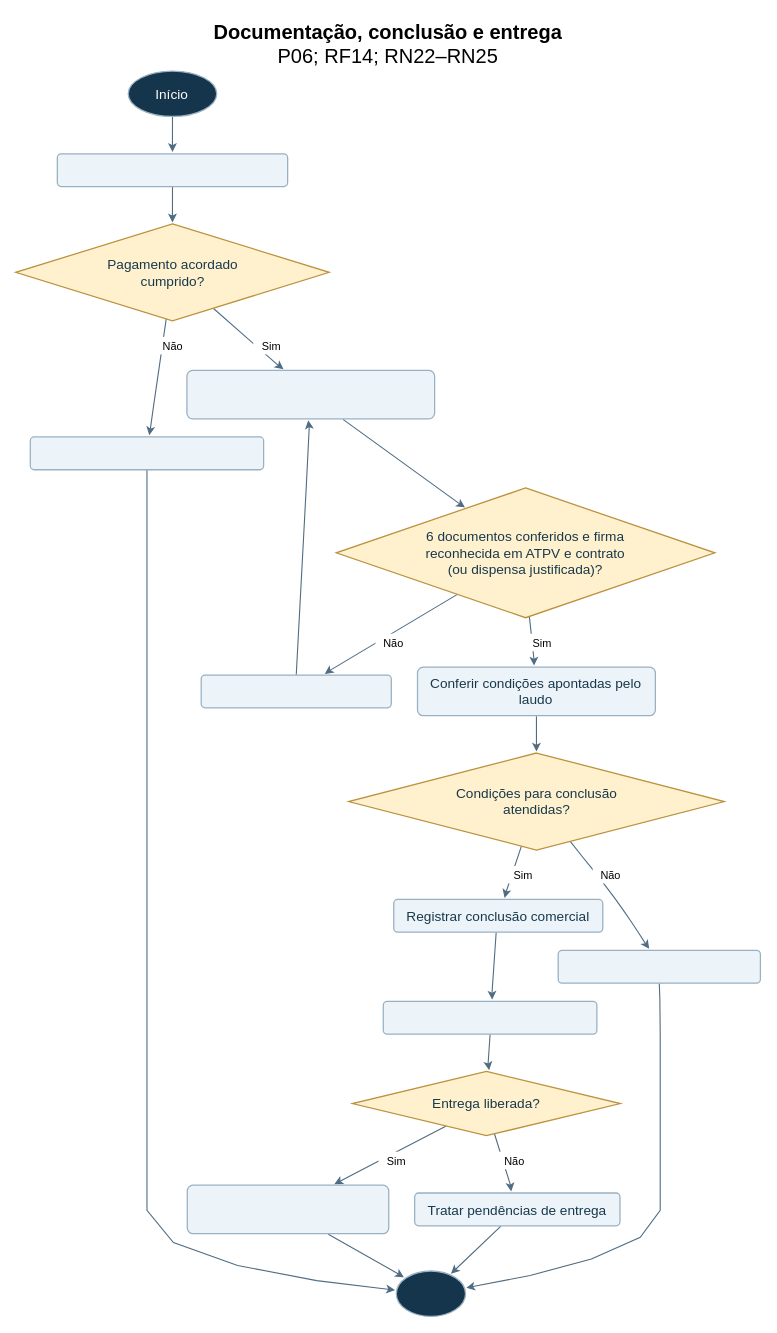
Image size: 777x1333. Some labels were removed from this diagram. The shapes that lost their labels are listed below. From the top down, each one's centre as x and y in pixels, then its label:
pixel 172 170: Consultar venda em formalização
pixel 310 394: Conferir CNH, laudo cautelar, CRLV, ATPV, comprovante de residência e contrato
pixel 146 453: Acompanhar pendência financeira
pixel 295 691: Regularizar documentação
pixel 659 966: Registrar e tratar pendências
pixel 489 1017: Realizar scanner e preparação
pixel 287 1209: Registrar entrega e início da garantia concedida
pixel 430 1293: Fim
